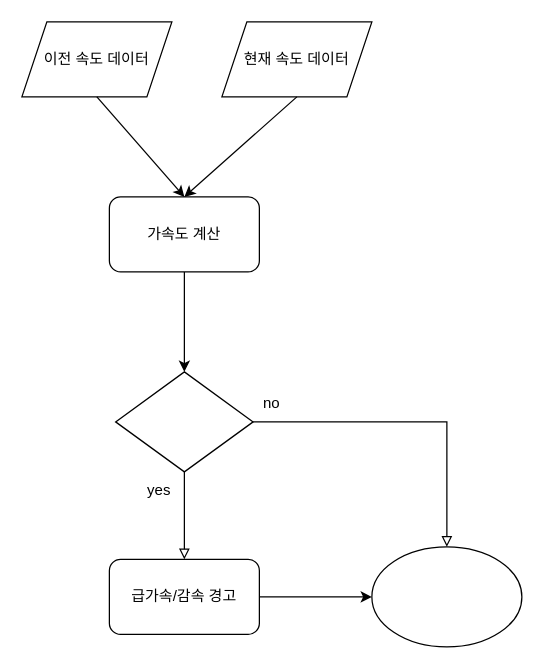
Some shapes in this 544 by 669 pixel diagram are drawn without their labels. The centre of each missing label's shape, as x and y in pixels:
abs(acel) > 1G: [183,421]
충돌감지: [446,596]
